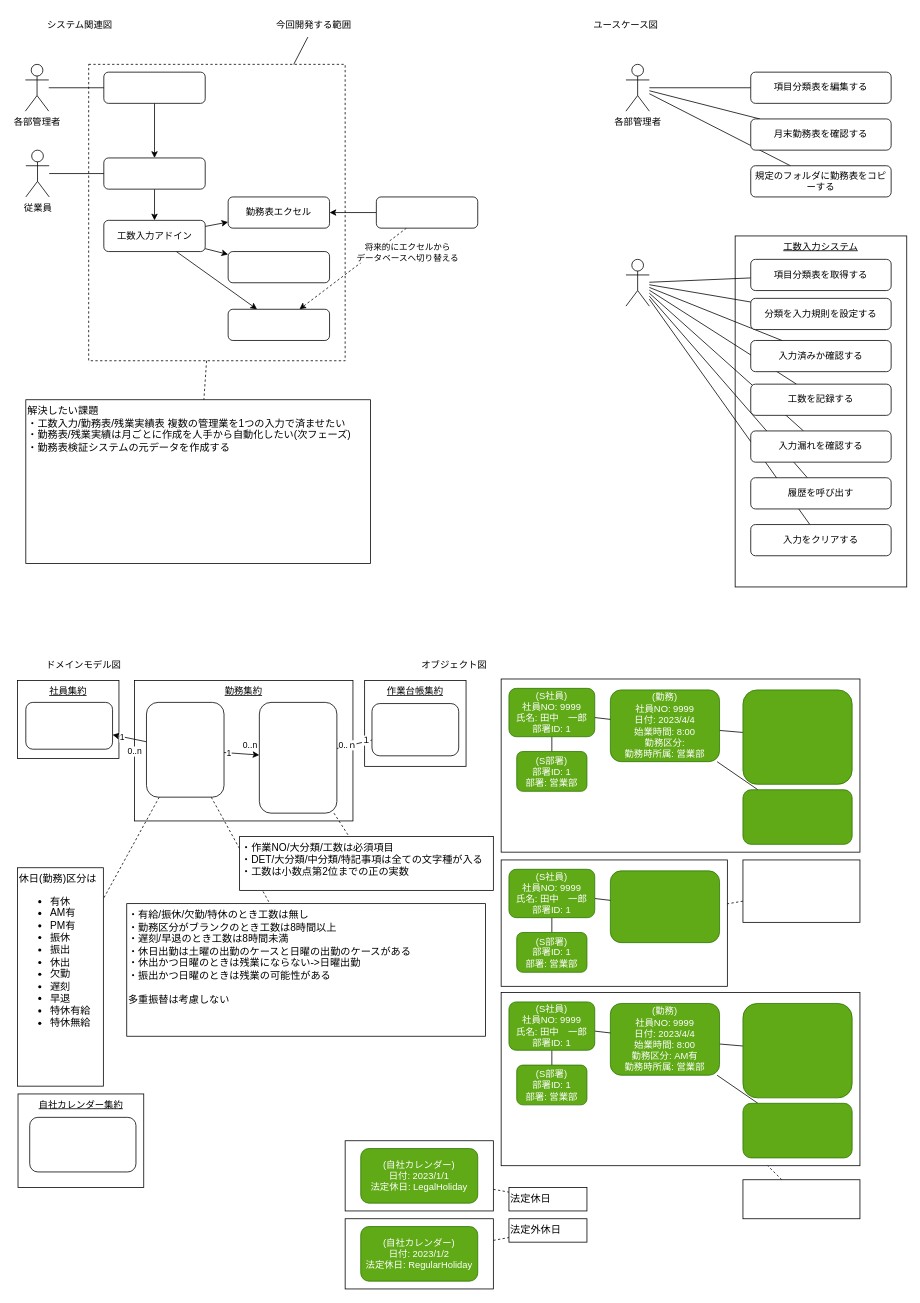
Some shapes in this 920 by 1303 pixel diagram are drawn without their labels. The shapes that lost their labels are listed below. From the top down, each one's centre as x and y in pixels, then its label:
point (154, 87): 項目分類表エクセル
point (154, 173): 工数入力エクセル
point (427, 212): 勤務表検証システム
point (278, 267): 残業実績エクセル
point (637, 282): 工作部員
point (278, 324): データベース
point (69, 725): S社員 ( Employee ) 社員NO
point (415, 729): M作業台帳 ( WorkingLedger ) 作業NO コード
point (797, 736): (実績工数) 作業NO: 99N-1234 DET: 実績工程: CAD 大分類: A 中分類: A-1 工数: 3.33 特記事項: A-1見積
point (185, 749): 勤務 ( Attendance ) 社員NO 日付 始業時間 休日(勤務)区分 勤務時所属
point (298, 757): 実績工数 (Achievement ) 作業NO DET 実績工程 大分類 中分類 工数 特記事項
point (797, 816): (実績工数) 作業NO: 99N-1234 DET: 1 工数: 4.67
point (665, 906): (勤務) 社員NO: 9999 日付: 2023/4/4 始業時間: 8:00 勤務区分: 有給 勤務時所属: 営業部
point (801, 890): 勤務区分が有給/振休/欠勤/特休の時は、工数を持たない
point (797, 1050): (実績工数) 作業NO: 99N-1234 DET: 実績工程: NC 大分類: A 中分類: A-1 工数: 3.33 特記事項: A-1見積
point (82, 1144): 自社カレンダー (OwnCompanyHoliday ) 日付 法定休日
point (797, 1130): (実績工数) 作業NO: 99N-1234 DET: 1 工数: 0.67
point (801, 1199): 勤務区分がAM有/PM有/の時は、工数が4時間
